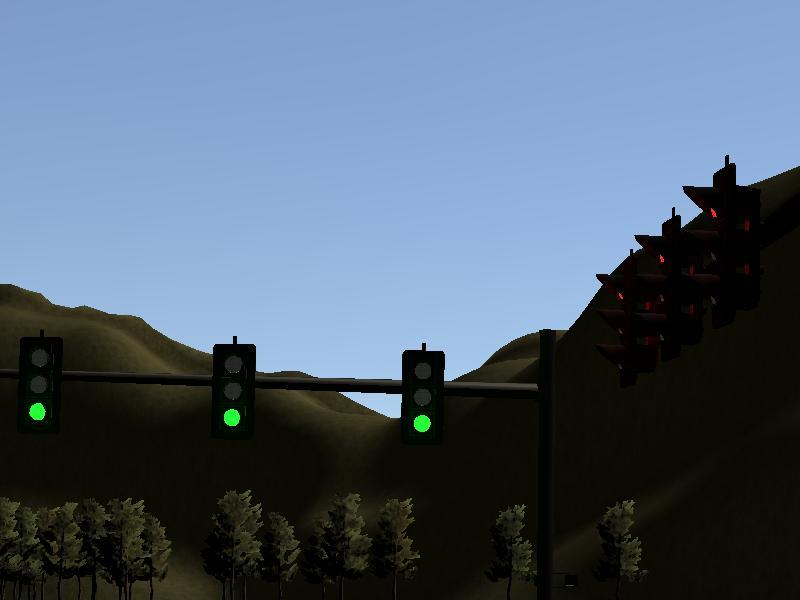Green: (400, 350, 445, 447), (18, 336, 61, 435), (212, 344, 257, 438)
